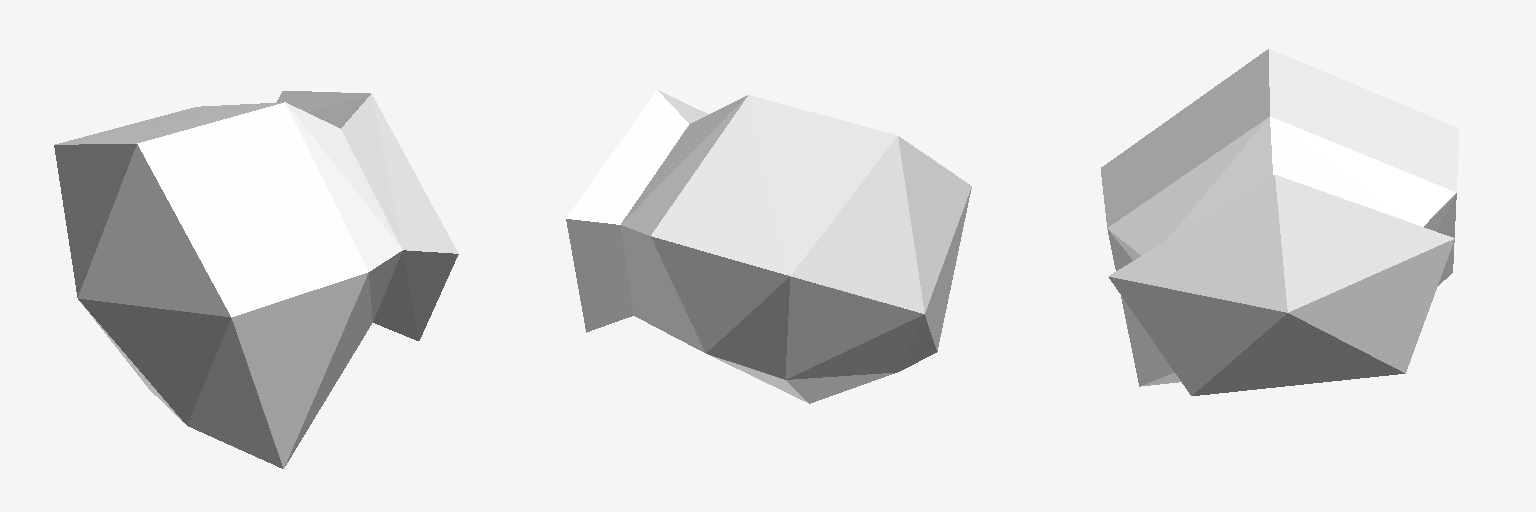
Rendered from Right_Arm_Hand.obj.
3 views of the same model, side by side, from view 1: azimuth 30°, elevation 25°; view 2: azimuth 150°, elevation 25°; view 3: azimuth 270°, elevation 25° (orthographic).
Visible parts, largest first — view 1: Right_Hand.000_Right_Hand.001; view 2: Right_Hand.000_Right_Hand.001; view 3: Right_Hand.000_Right_Hand.001.
Boxes of the visible parts, box(x1,y1,x2,y2) form: Right_Hand.000_Right_Hand.001: box(54, 91, 458, 468); Right_Hand.000_Right_Hand.001: box(566, 90, 971, 403); Right_Hand.000_Right_Hand.001: box(1101, 49, 1459, 395).
Bounding box in the file's own units: 0.623 × 0.5381 × 0.5778.